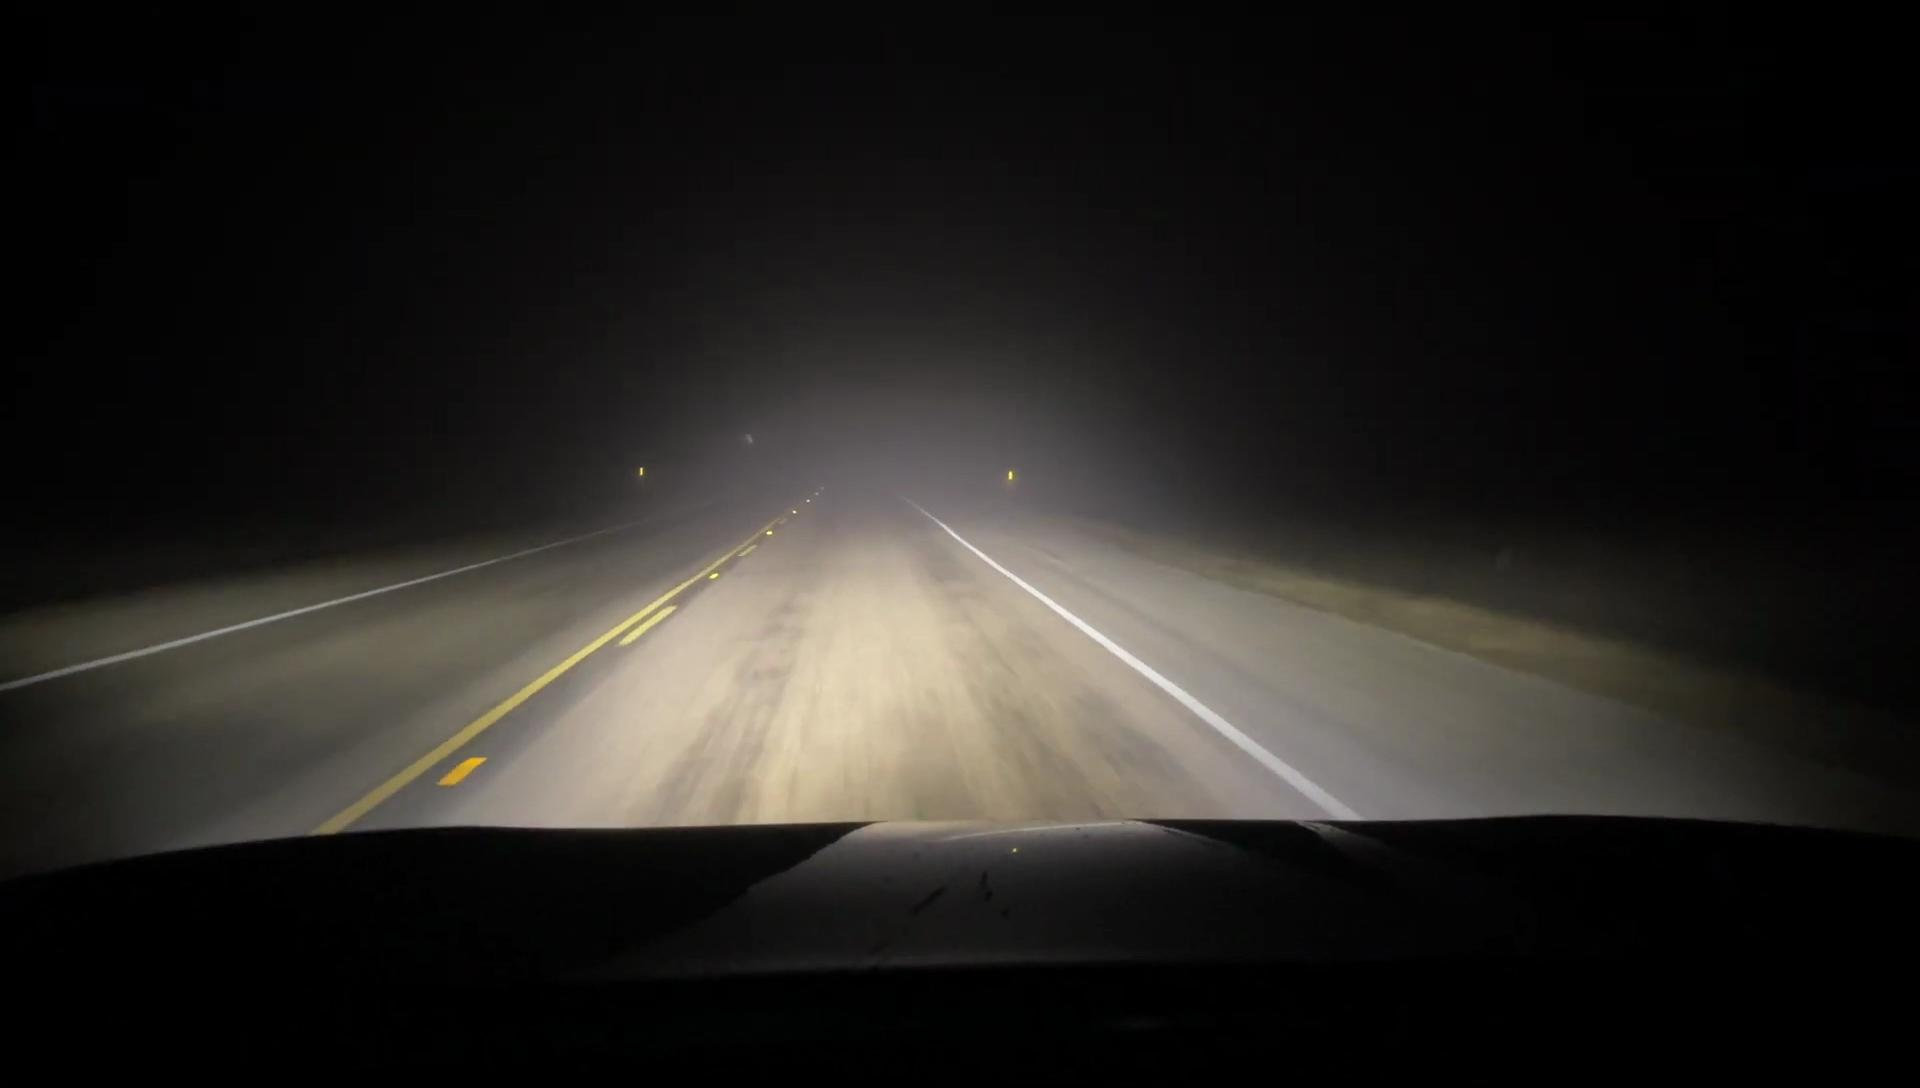road-lanes: (423, 491, 1307, 824)
